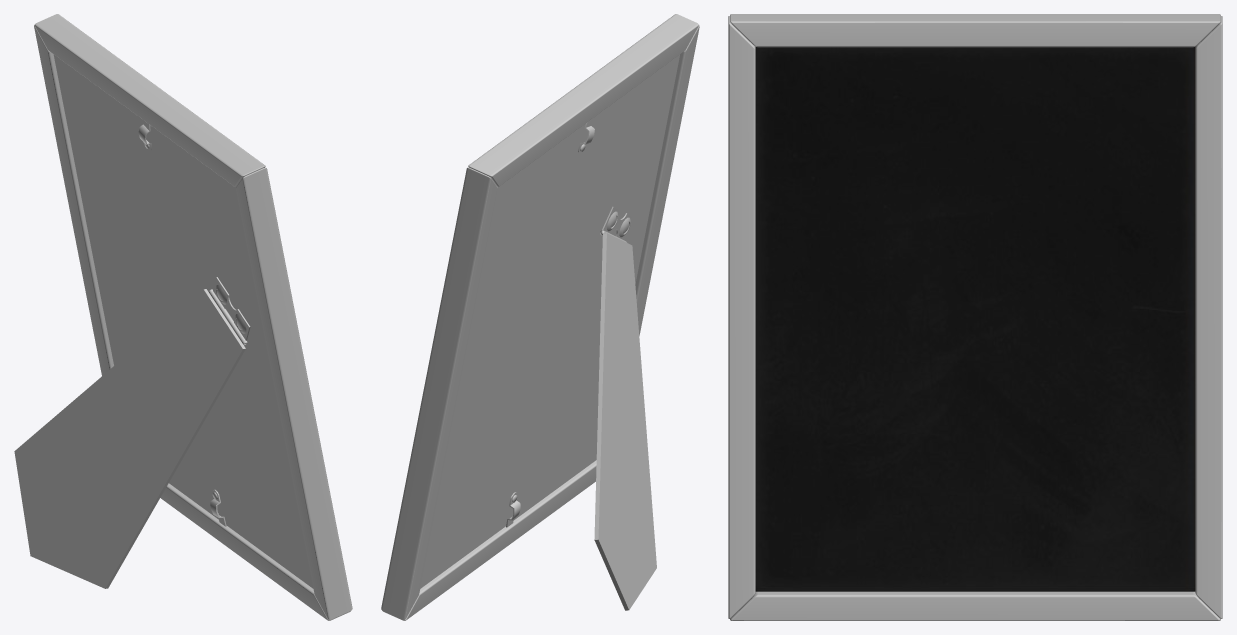
The model's file is standing_picture_frame_01.obj.
3 renders of one model, left to right at view 1: azimuth 30°, elevation 25°; view 2: azimuth 150°, elevation 25°; view 3: azimuth 270°, elevation 25°, orthographic. The views are drawn at different scales.
Parts seen in each view (by area): view 1: standing_picture_frame_01_2; view 2: standing_picture_frame_01_2; view 3: standing_picture_frame_01_0, standing_picture_frame_01_2.
Part boxes in pixels (x1,y1,x2,y2): standing_picture_frame_01_2: (14,14,352,620); standing_picture_frame_01_2: (381,14,699,620); standing_picture_frame_01_0: (755,47,1195,591); standing_picture_frame_01_2: (728,14,1222,620).
Bounding box in the file's own units: 0.1003 × 0.2497 × 0.2008.
